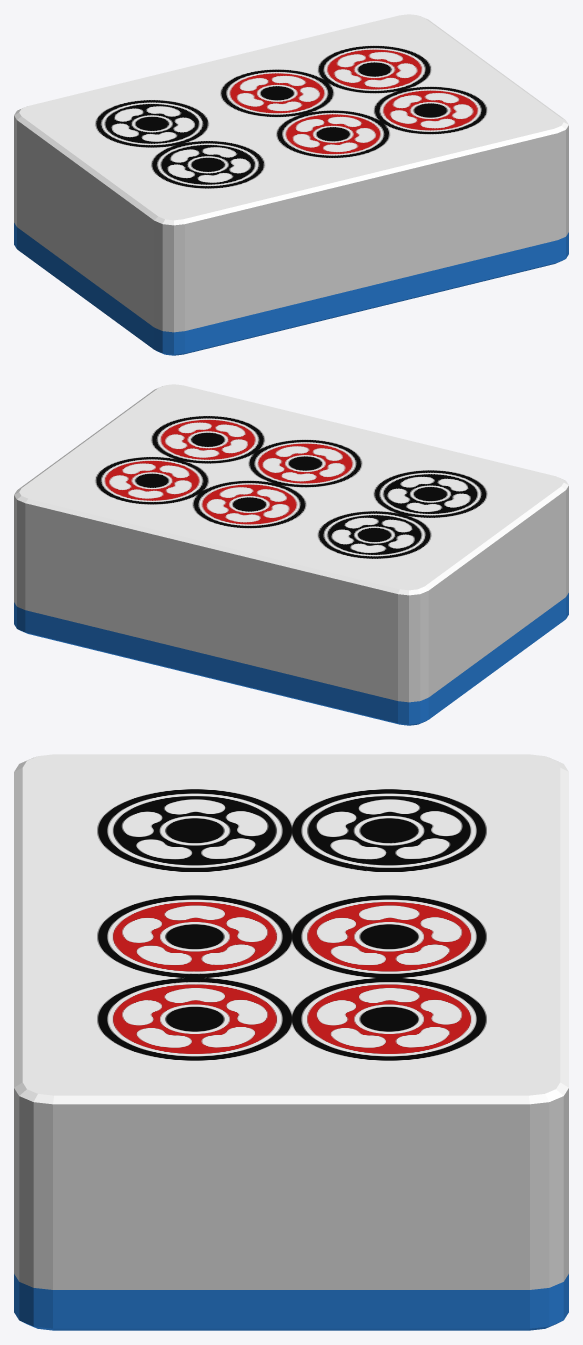
File: fbxPai.fbx
3 views of the same model, one above another, from view 1: azimuth 30°, elevation 25°; view 2: azimuth 150°, elevation 25°; view 3: azimuth 270°, elevation 25° (orthographic). The views are drawn at different scales.
Visible parts, largest first — view 1: Cube; view 2: Cube; view 3: Cube.
Part boxes in pixels (box(x1,y1,x2,y2)): Cube: box(14, 14, 568, 355); Cube: box(14, 384, 568, 725); Cube: box(14, 754, 568, 1330).
Size of the model in its own units: 600 by 188 by 404.
Materials: 3 (1 with a texture image).
